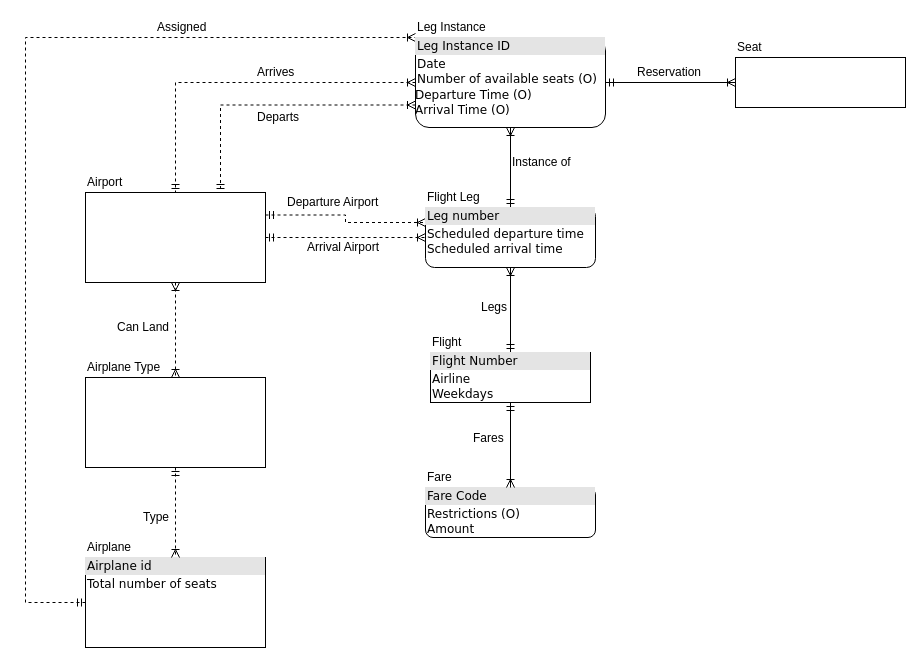
Image size: 923x665. Some labels were removed from this diagram. Here are the shapes that lost their labels. From the top down, the box of each, then its label:
(734, 56, 906, 108): Seat number Customer Name Customer Phone (O)
(84, 192, 266, 282): Airport Code City State Name (O)
(84, 376, 266, 468): Type Name Company (O) Max Seats (O)
